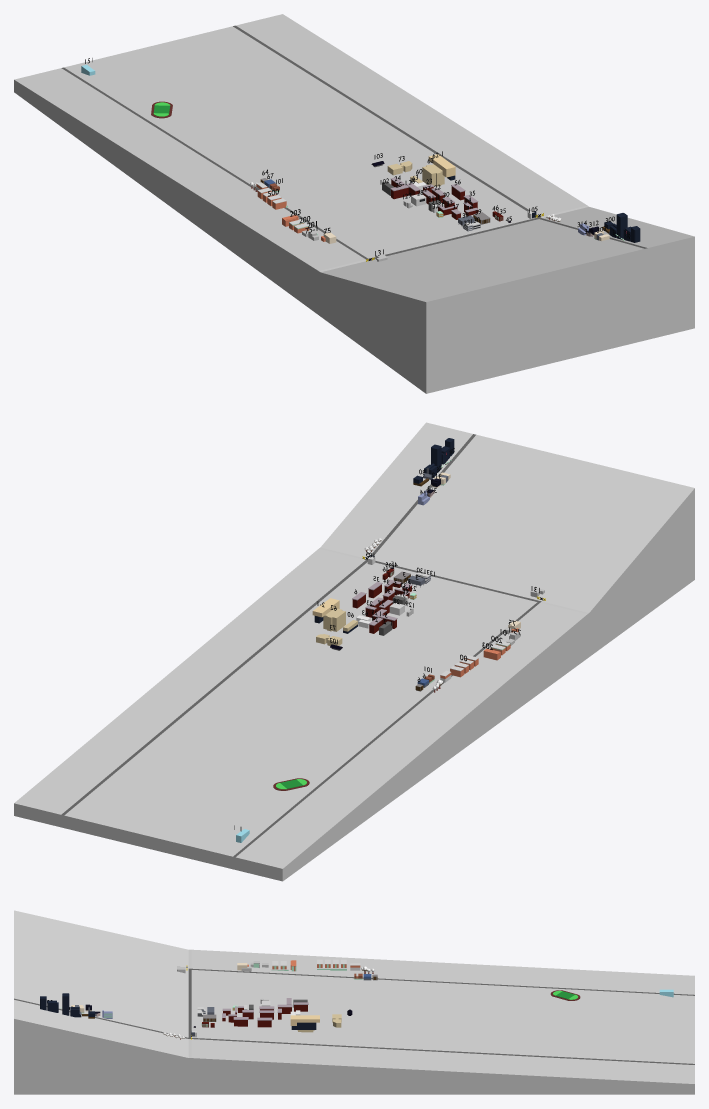
Rendered from road_mid.fbx.
3 views of the same model, one above another, from view 1: azimuth 30°, elevation 25°; view 2: azimuth 150°, elevation 25°; view 3: azimuth 270°, elevation 25° (orthographic). The views are drawn at different scales.
Visible parts, largest first — view 1: 00_Terrain; view 2: 00_Terrain; view 3: 00_Terrain, Bldg_062-1, Bldg_500.
Part boxes in pixels (x1,y1,x2,y2): 00_Terrain: (14,14,694,393); 00_Terrain: (14,422,694,881); 00_Terrain: (14,910,694,1094); Bldg_062-1: (290,1015,319,1029); Bldg_500: (317,959,360,970).
Bounding box in the file's own units: 61597 × 21985 × 163591.
